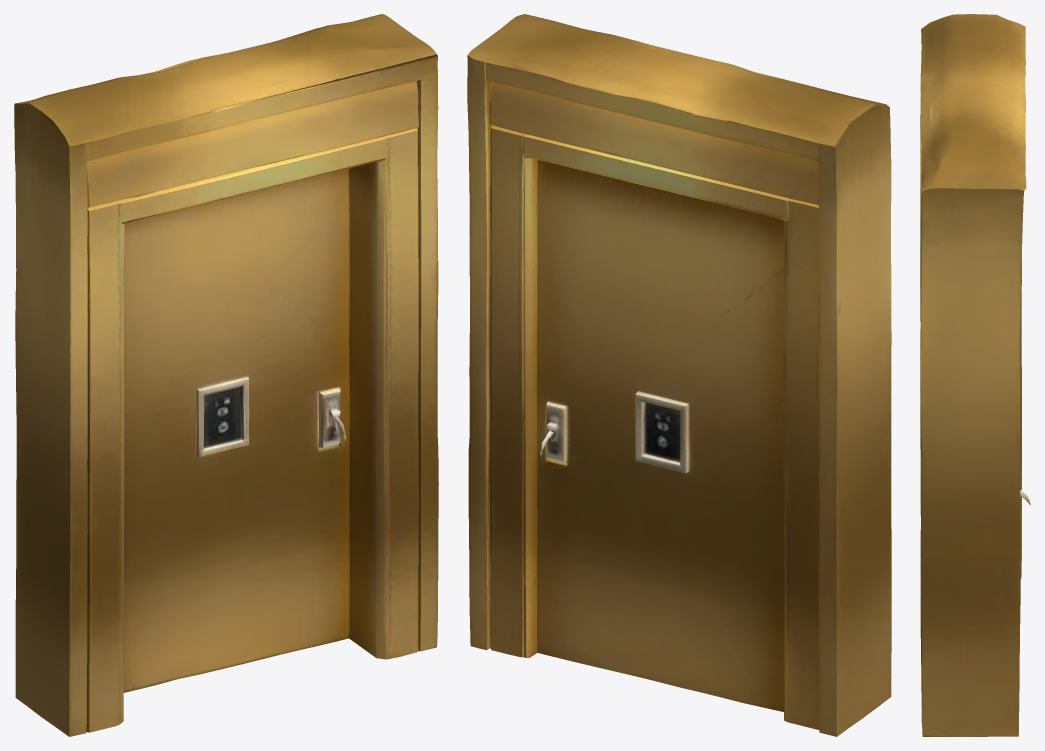
File: elevatorDoorV2.glb
3 renders of one model, left to right at view 1: azimuth 30°, elevation 25°; view 2: azimuth 150°, elevation 25°; view 3: azimuth 270°, elevation 25°, orthographic. The views are drawn at different scales.
Parts seen in each view (by area): view 1: model; view 2: model; view 3: model.
Boxes of the visible parts, x1,y1,x2,y2 form: model: (14,14,438,736); model: (467,14,891,736); model: (920,14,1030,736).
Bounding box in the file's own units: 1.2 × 1.9 × 0.3373.
Materials: 1 (1 with a texture image).
